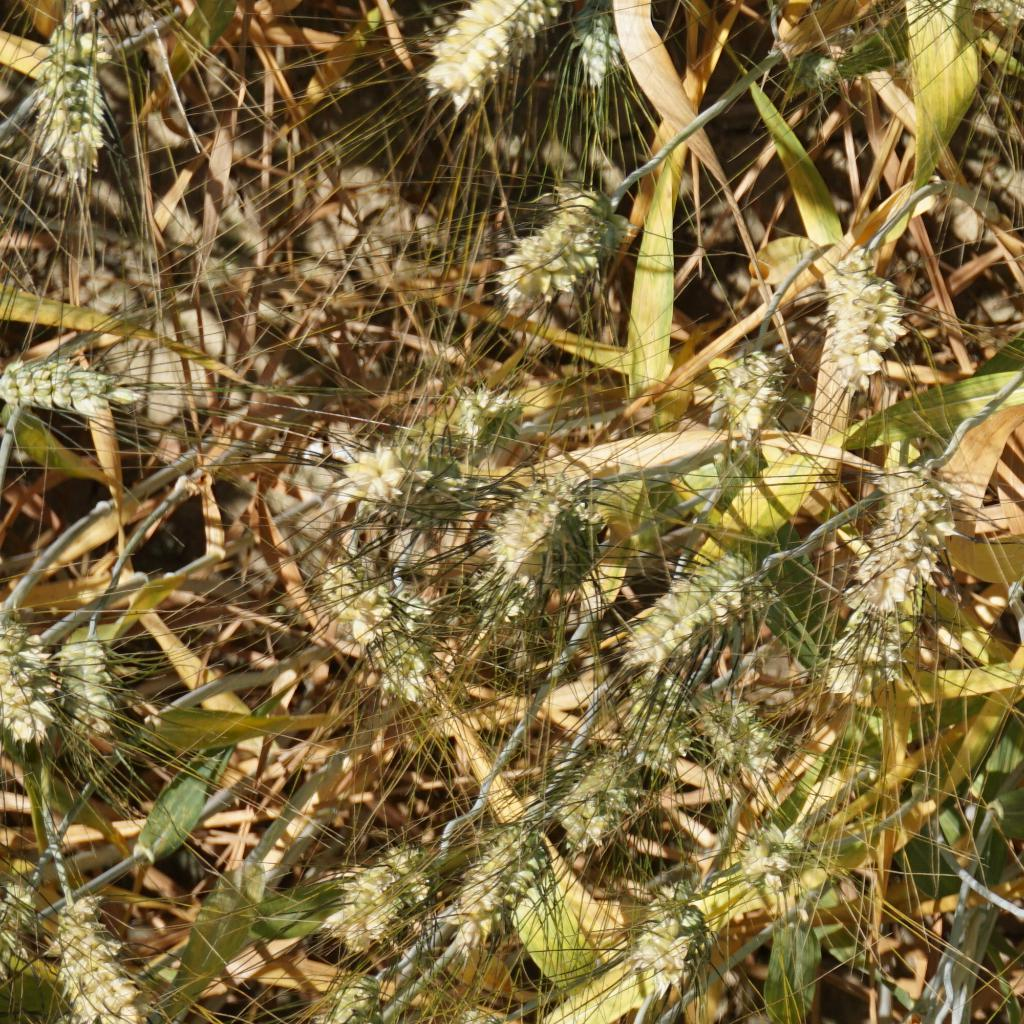0-0: (420, 0, 585, 109), (486, 184, 616, 316), (851, 448, 958, 602), (0, 336, 130, 444), (453, 813, 565, 922), (316, 555, 418, 674), (36, 36, 120, 175), (826, 259, 915, 389), (627, 559, 738, 659), (696, 691, 794, 802), (702, 339, 794, 453), (51, 907, 140, 1024), (486, 491, 583, 591), (546, 751, 649, 845), (335, 433, 429, 536), (64, 617, 133, 749), (314, 851, 429, 930), (629, 883, 713, 986), (610, 678, 683, 787), (453, 369, 525, 474), (568, 0, 629, 100), (0, 613, 36, 777), (301, 965, 387, 1024), (744, 824, 806, 892), (41, 0, 165, 28), (788, 37, 847, 95), (969, 0, 1020, 36)
